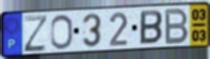2: (108, 11, 129, 48)
3: (81, 12, 103, 49)
B: (164, 7, 191, 46), (139, 9, 164, 46)
O: (50, 14, 74, 51)
Z: (23, 14, 50, 54)
